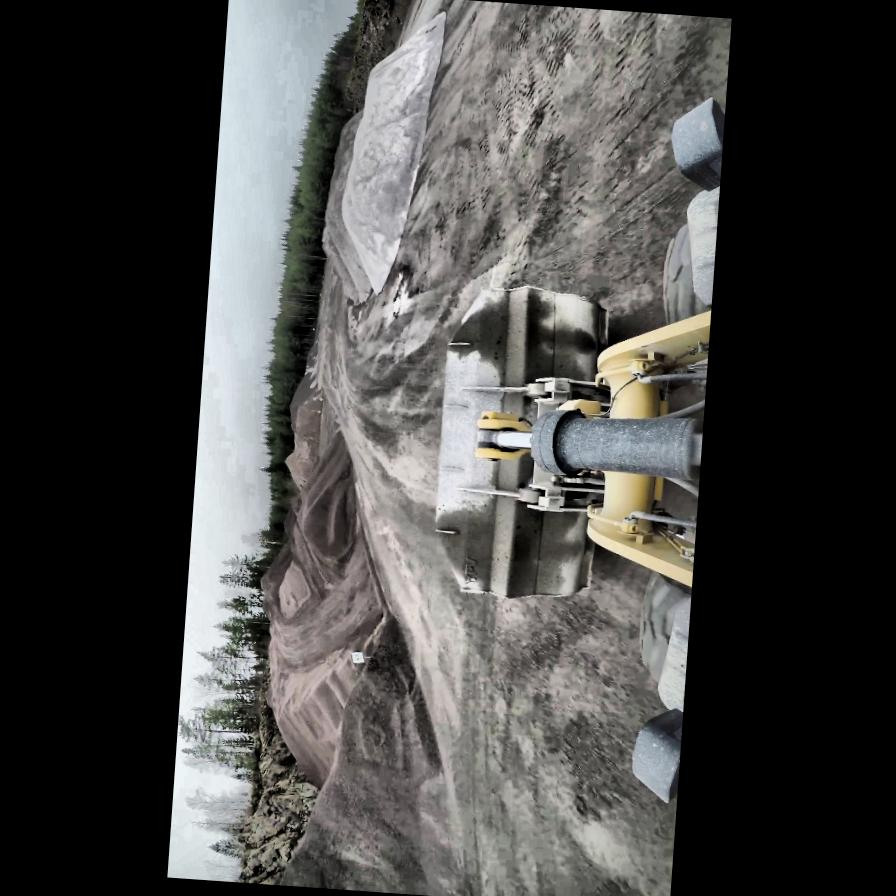anchor: (472, 412, 531, 463)
pile of gravel: (260, 609, 464, 896), (246, 448, 406, 790), (334, 2, 447, 299), (316, 108, 384, 304), (282, 372, 324, 492), (255, 536, 294, 628), (272, 560, 312, 622), (281, 448, 300, 489), (318, 222, 332, 258)
